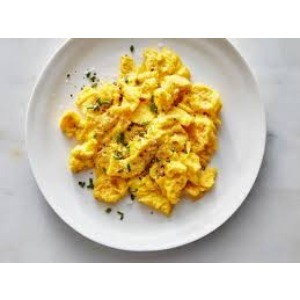egg_brain food: (89, 80, 214, 191)
